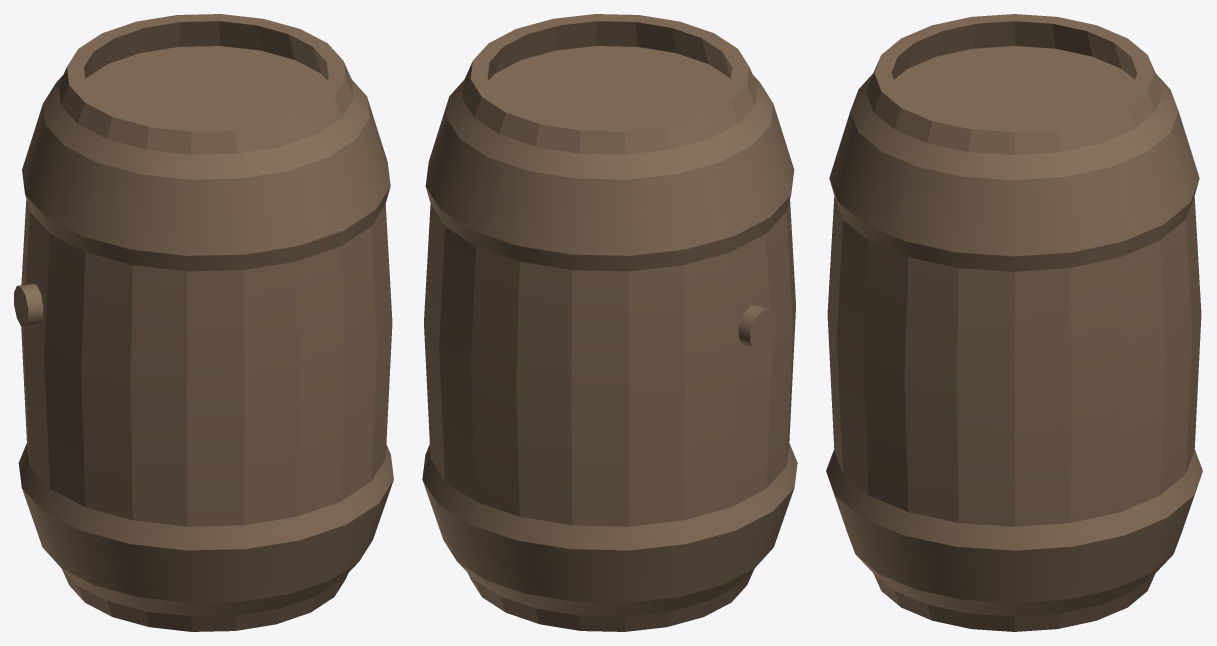
The model's file is Barrel_01_LOD0_Mesh.fbx.
3 renders of one model, left to right at view 1: azimuth 30°, elevation 25°; view 2: azimuth 150°, elevation 25°; view 3: azimuth 270°, elevation 25°, orthographic.
Parts seen in each view (by area): view 1: Barrel01; view 2: Barrel01; view 3: Barrel01.
Part boxes in pixels (x1,y1,x2,y2): Barrel01: [14, 14, 393, 631]; Barrel01: [422, 14, 797, 631]; Barrel01: [826, 14, 1202, 631].
Size of the model in its own units: 76.5 by 109 by 74.46.
